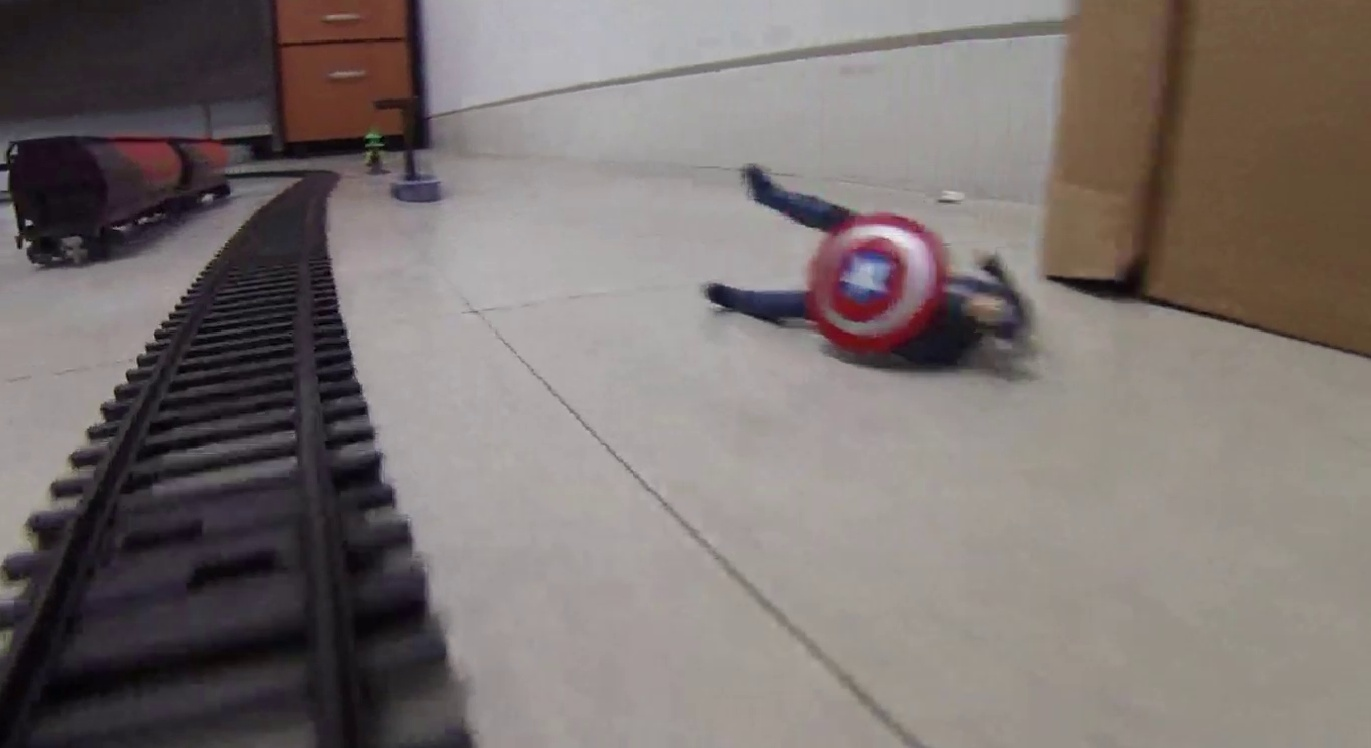people: (705, 164, 1033, 374)
